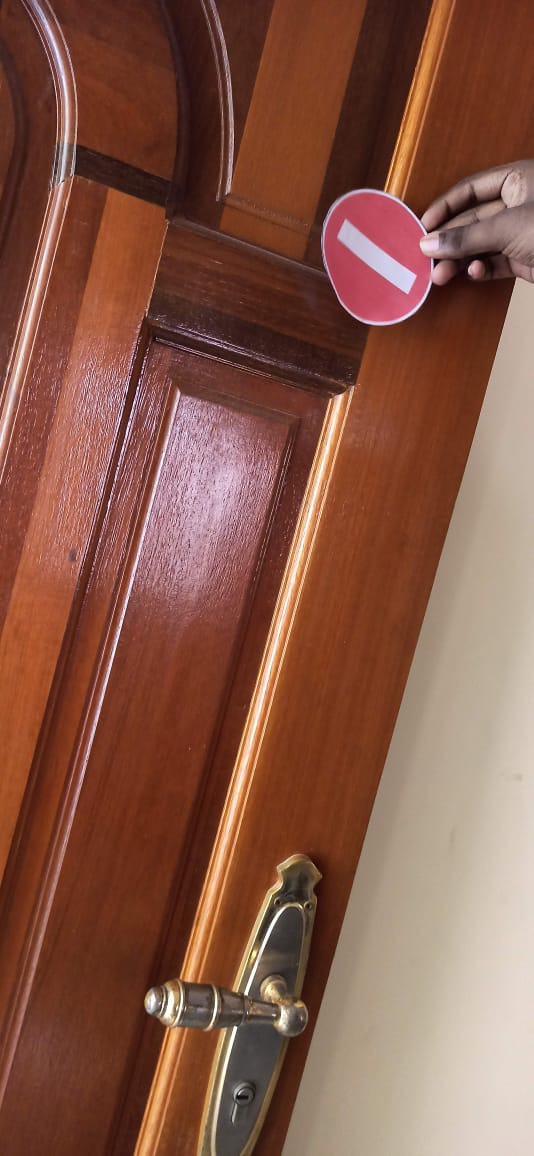NO ENTRY: (304, 150, 506, 325)
